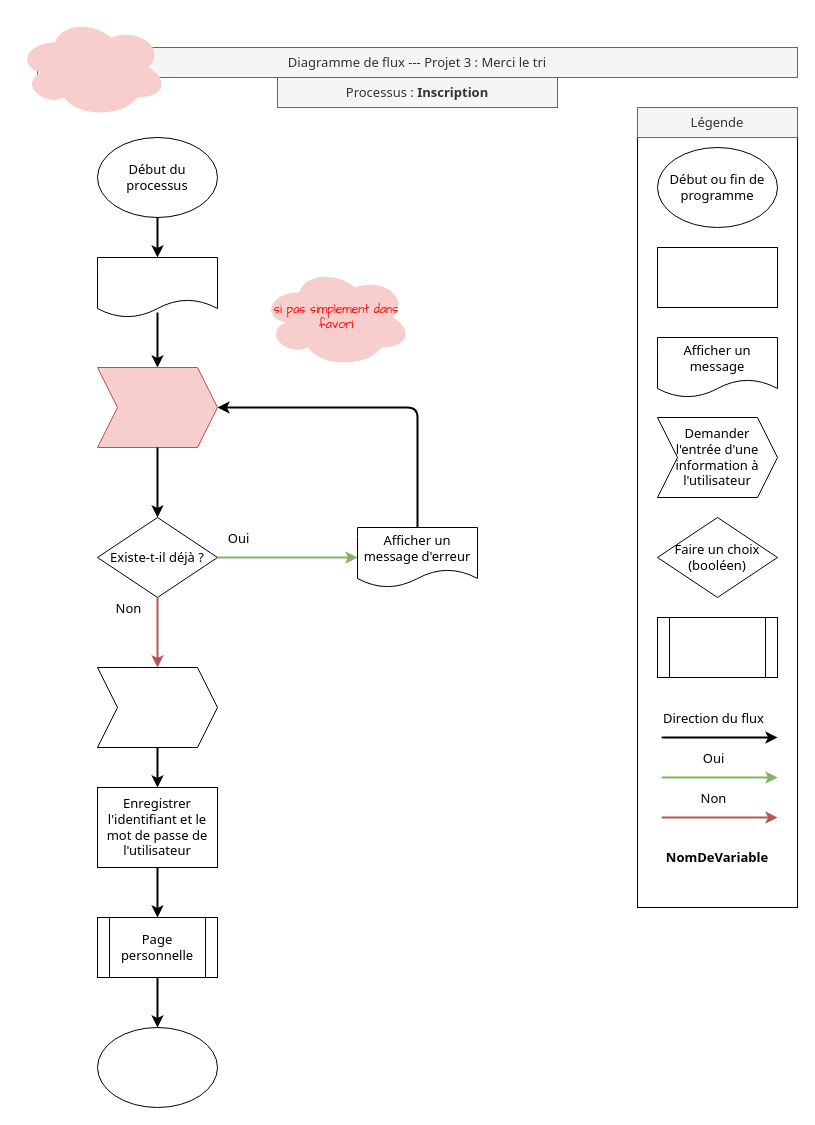
This 815x1125 diagram has some shape labels left out. Each missing label, with the centre of its shape:
(Sous)-processus: (x=717, y=647)
A modifier / vérifier: (x=92, y=67)
Afficher la page d'inscription: (x=157, y=287)
Demander l'identifiant de l'utilisateur: (x=157, y=407)
Demander le mot de passe de l'utilisateur: (x=157, y=707)
Faire un calcul ou un traitement d'information: (x=717, y=277)
Fin du processus: (x=157, y=1067)
